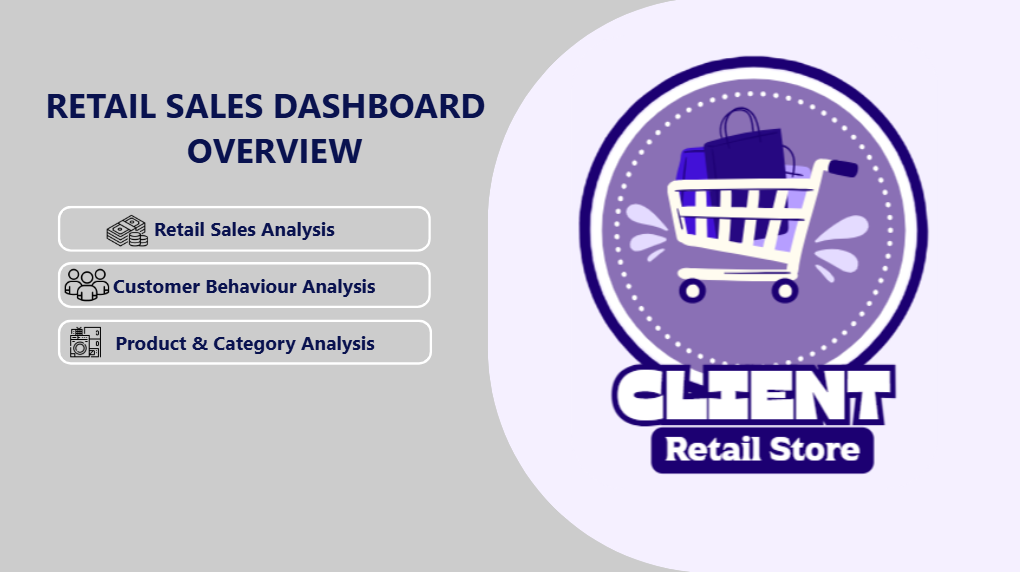

Layout of this report page (visuals, bound fields, positions):
{"tool":"powerbi","page":{"name":"Dashboard Overview","canvas":[1280,720],"ordinal":0},"visuals":[{"type":"shape","box":[611.4,0,668.6,720],"z":0},{"type":"image","box":[630.2,47.7,630.2,566.3],"z":1000},{"type":"textbox","box":[52.9,100,611.4,134.3],"z":2000},{"type":"actionButton","title":"Retail","box":[74.2,260.4,466.4,57.5],"z":3000},{"type":"actionButton","box":[74.2,331.6,466.4,57.5],"z":4000},{"type":"image","box":[98.4,265,124.2,53],"z":5000},{"type":"image","box":[53,331.6,113.6,57.5],"z":6000},{"type":"actionButton","box":[73.1,403.8,467.9,56.4],"z":7000},{"type":"image","box":[73.1,411.5,69.2,41],"z":8000}]}

Visuals, with their boxes in screenshot pixels (x1, y1, x2, y2), scaled from the page's 1280x720 canvas onto the 1020x572 screenshot:
shape: l=487, t=0, r=1019, b=571
image: l=502, t=38, r=1004, b=488
textbox: l=42, t=79, r=529, b=186
"Retail" actionButton: l=59, t=207, r=431, b=253
actionButton: l=59, t=263, r=431, b=309
image: l=78, t=211, r=177, b=253
image: l=42, t=263, r=133, b=309
actionButton: l=58, t=321, r=431, b=366
image: l=58, t=327, r=113, b=359
